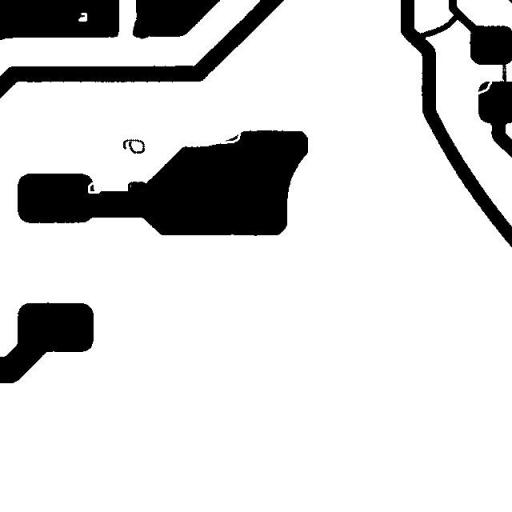copper: (115, 131, 152, 161)
mousebite: (198, 120, 248, 151), (80, 174, 108, 201)
open: (467, 70, 499, 102)
pin-hole: (70, 5, 94, 29)
short: (408, 8, 466, 46), (494, 51, 512, 92)
spur: (124, 11, 158, 46), (120, 174, 154, 200)
